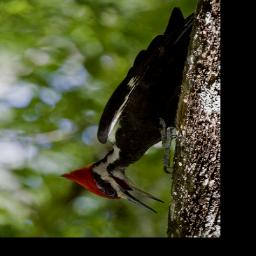Woodpecker: (59, 6, 195, 214)
